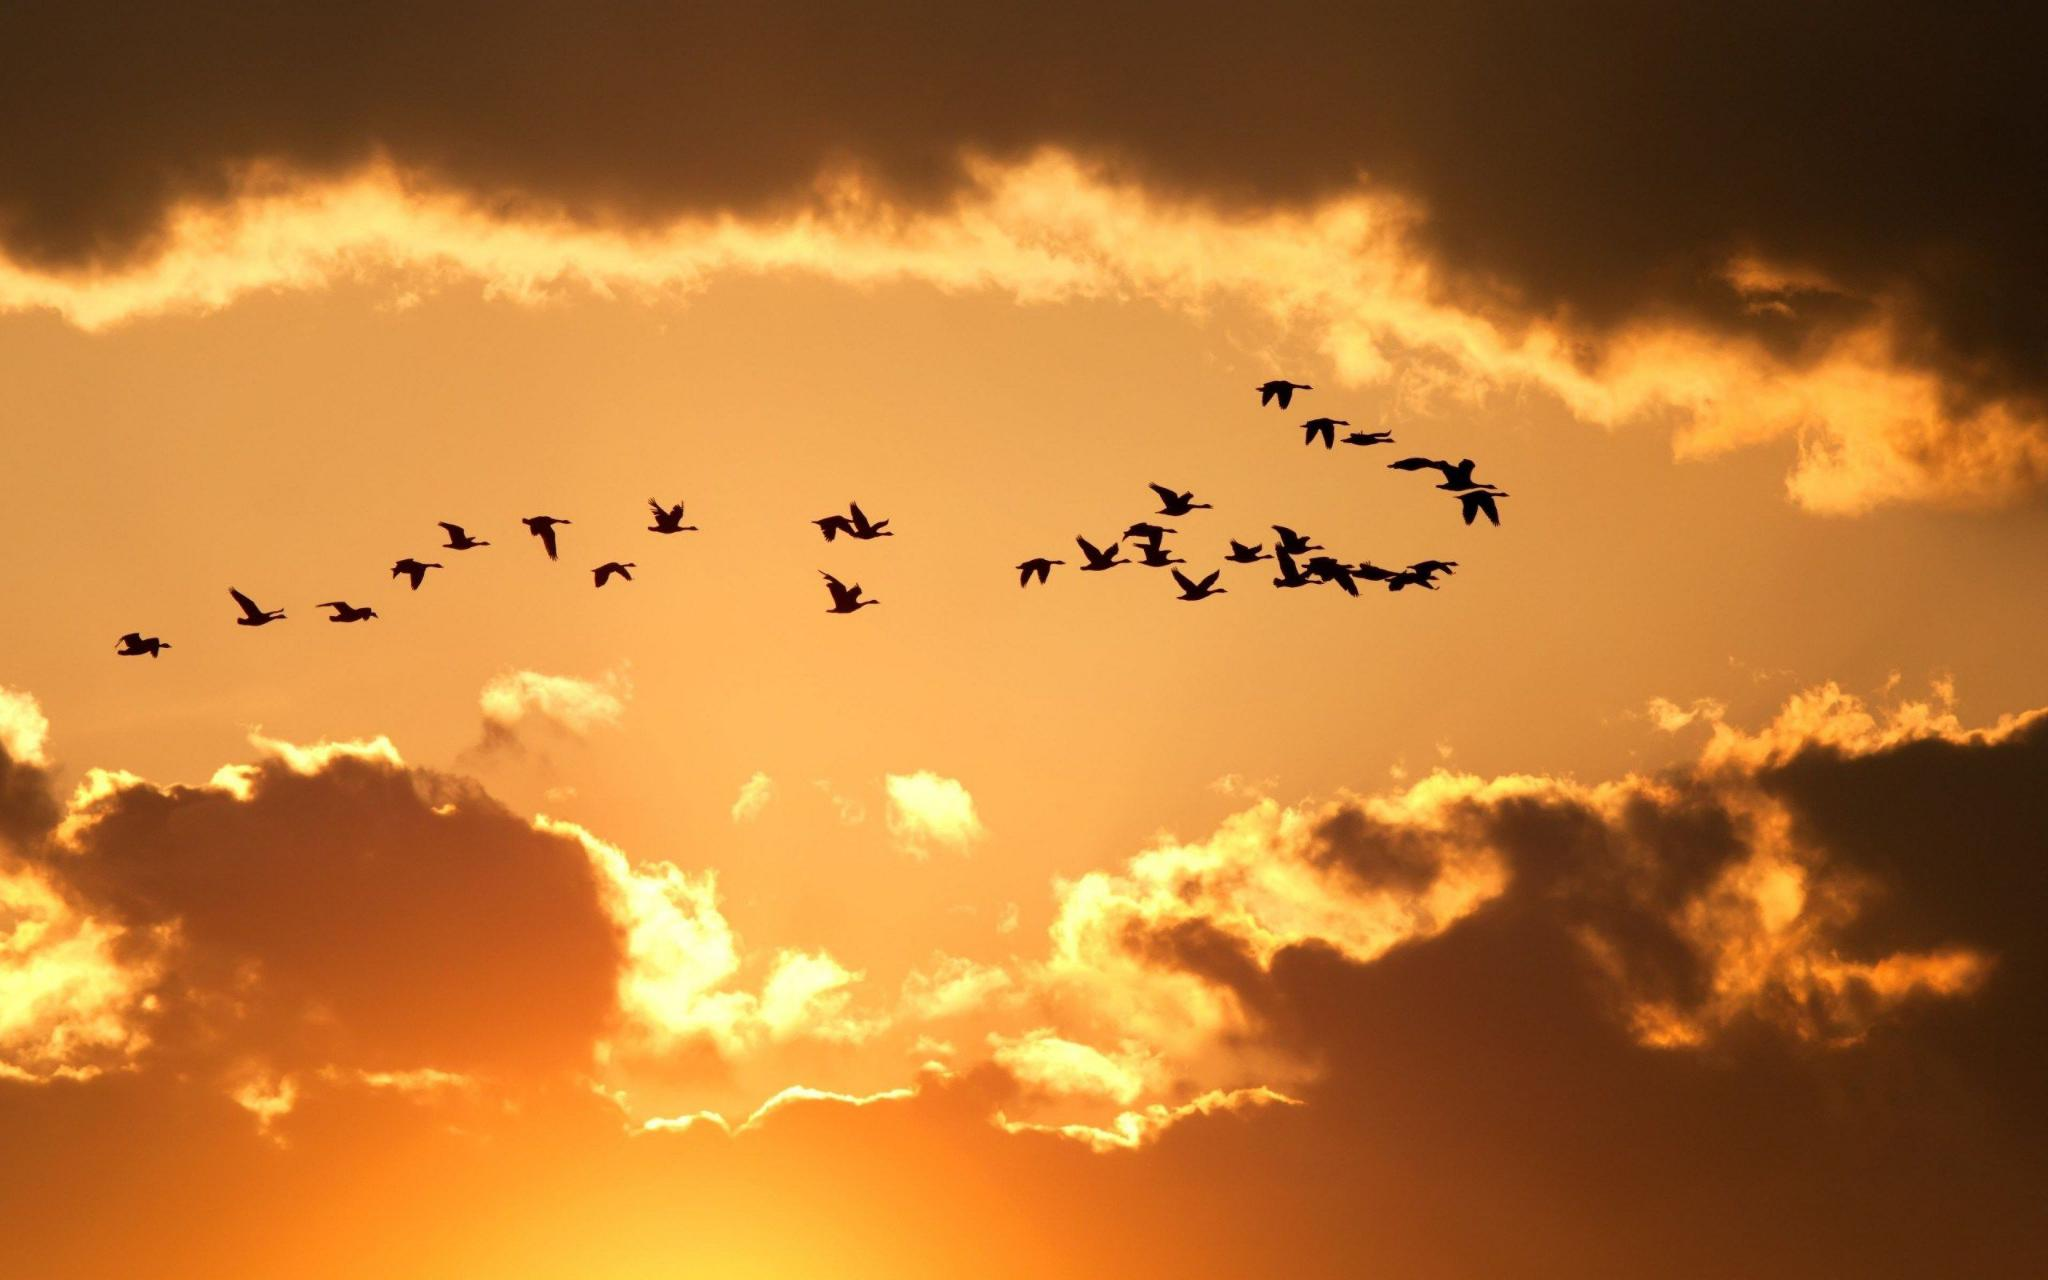bird: (804, 559, 896, 624), (214, 566, 292, 639), (94, 618, 171, 675), (513, 498, 575, 568), (308, 585, 380, 644), (637, 484, 700, 549), (1001, 549, 1070, 593)
